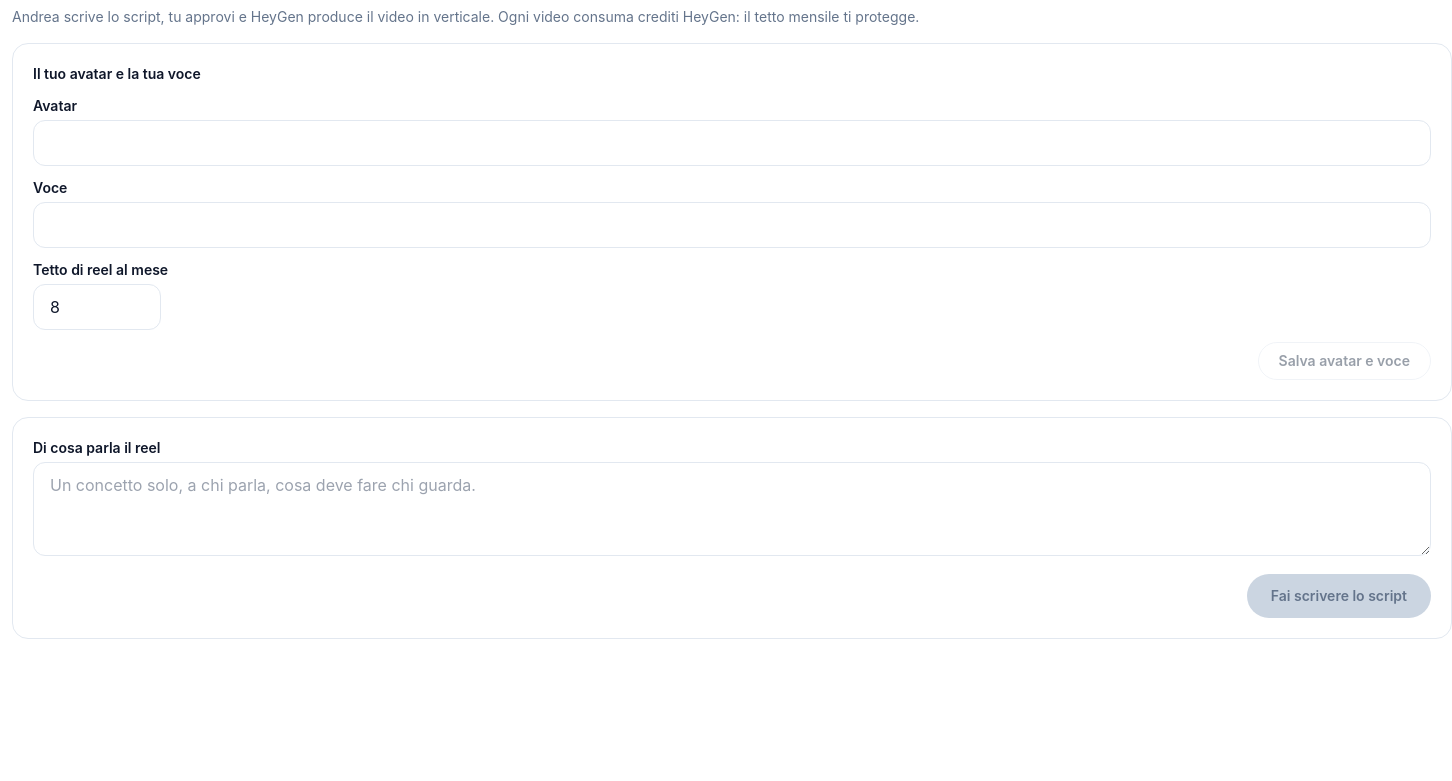
Scenario: senza avatar salvato «Approva e genera» è spento
Type "Perché i corsi online non vendono" into the text box labelled "Di cosa parla il reel" at x=732, y=509, box [33, 462, 1431, 556]
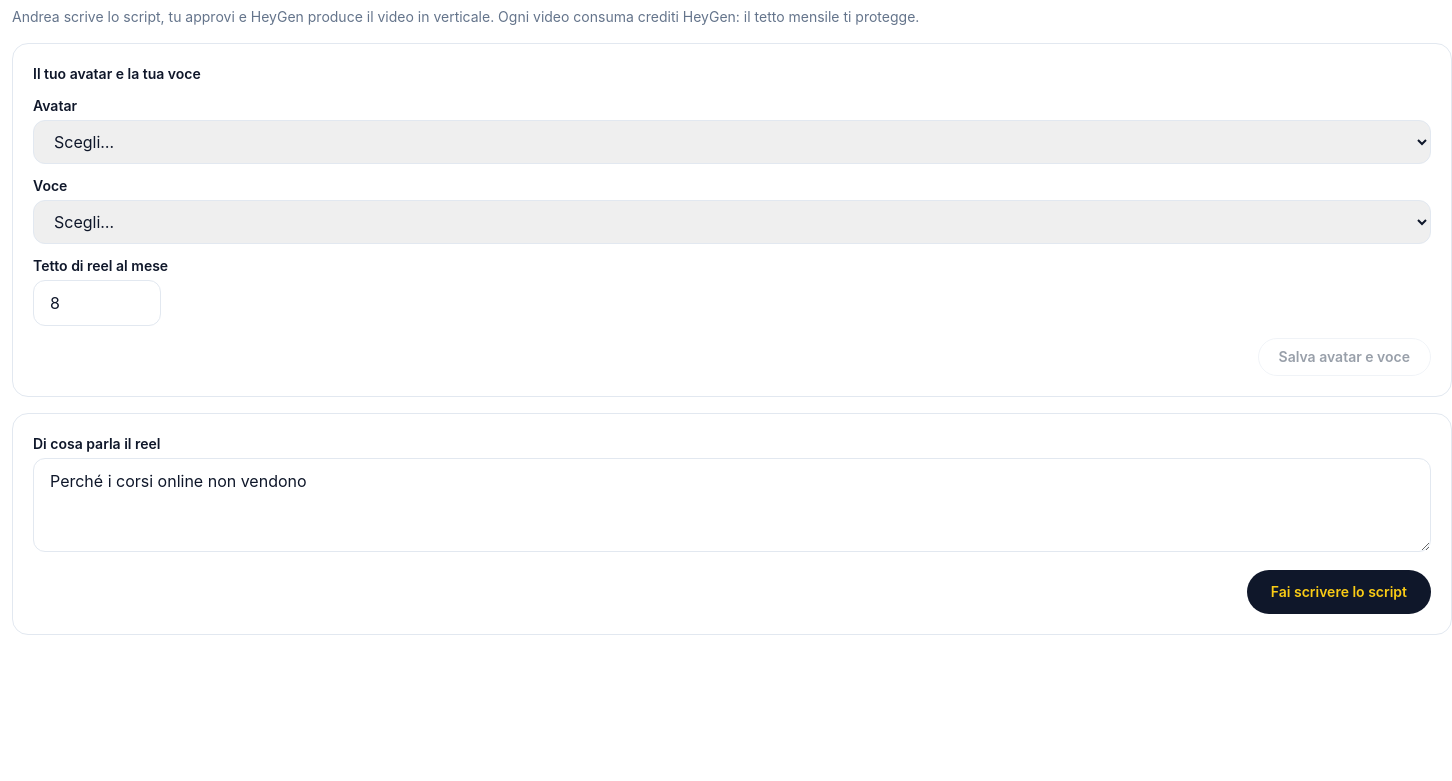
Click the button "Fai scrivere lo script" at x=1339, y=592, box [1247, 570, 1431, 614]
(page scrolled)
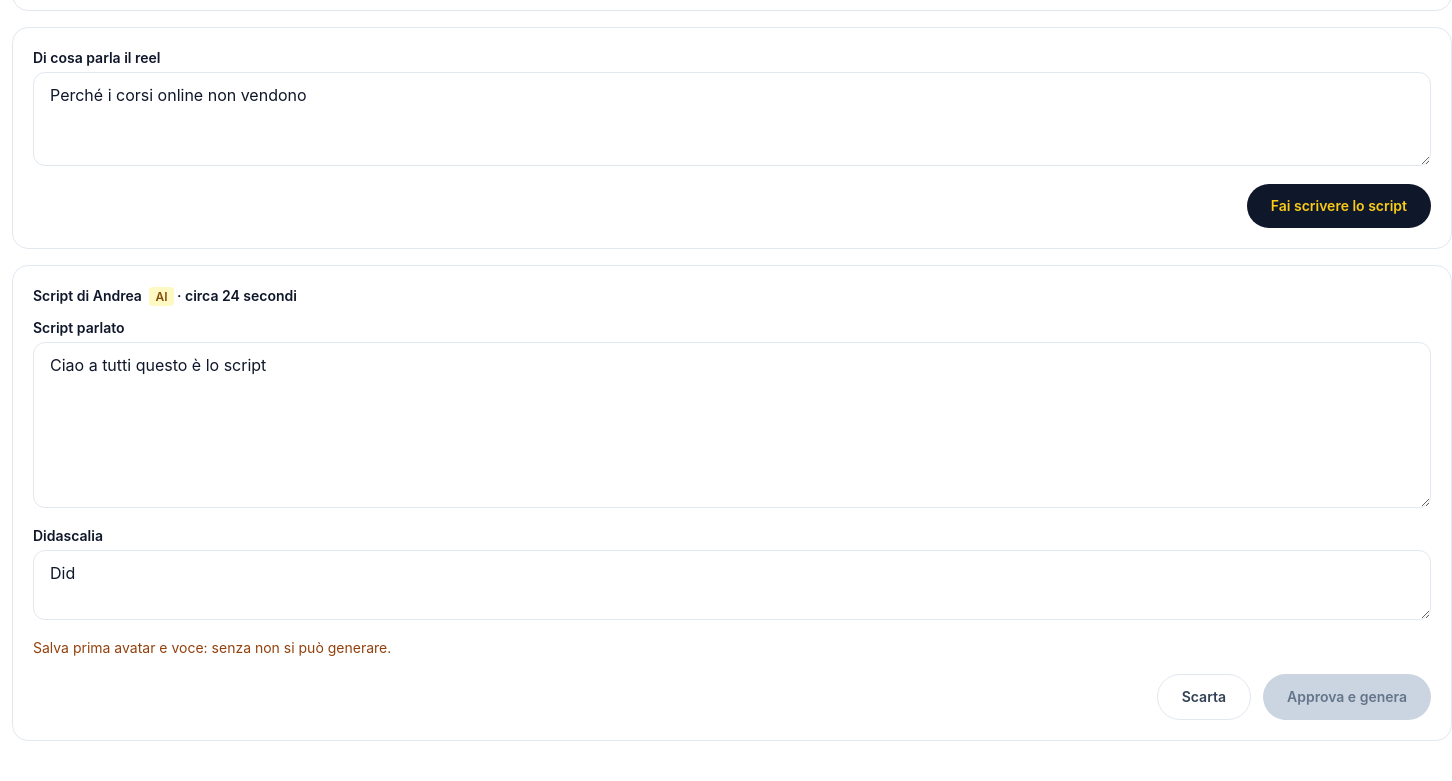
expect the button "Approva e genera" is disabled: met, box [1263, 674, 1431, 720]
